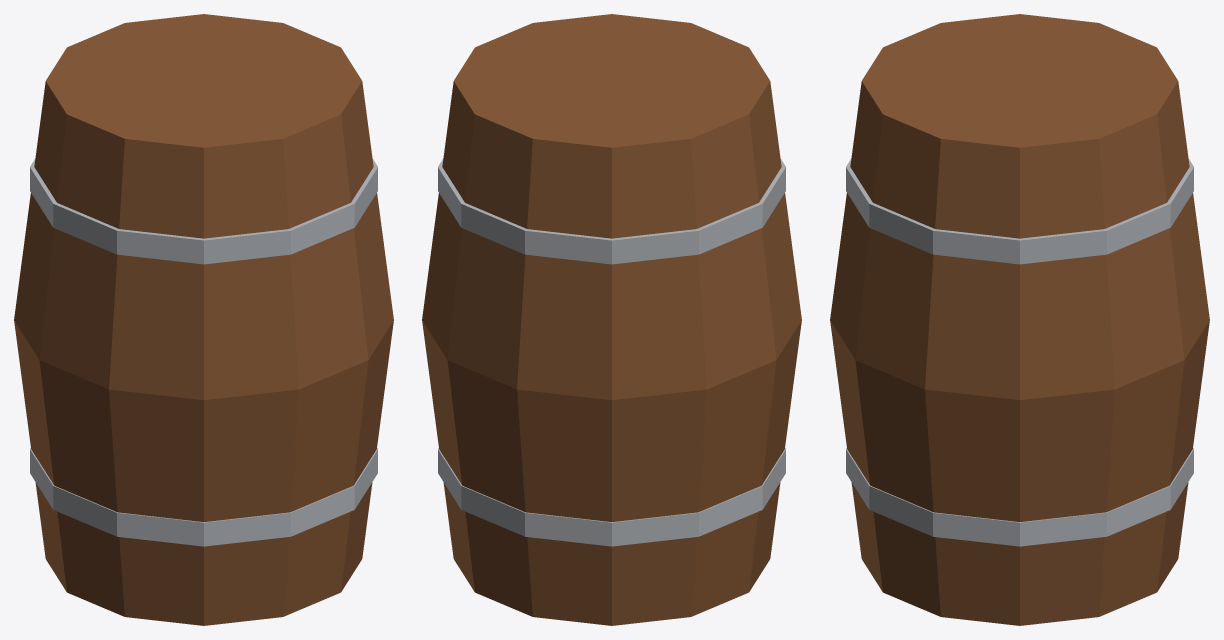
File: barrel.glb
3 renders of one model, left to right at view 1: azimuth 30°, elevation 25°; view 2: azimuth 150°, elevation 25°; view 3: azimuth 270°, elevation 25°, orthographic.
Visible parts, largest first — view 1: barrel; view 2: barrel; view 3: barrel.
Part boxes in pixels (box(x1,y1,x2,y2)): barrel: box(14, 14, 393, 625); barrel: box(422, 14, 801, 625); barrel: box(830, 14, 1209, 625).
Bounding box in the file's own units: 0.72 × 1 × 0.72.
